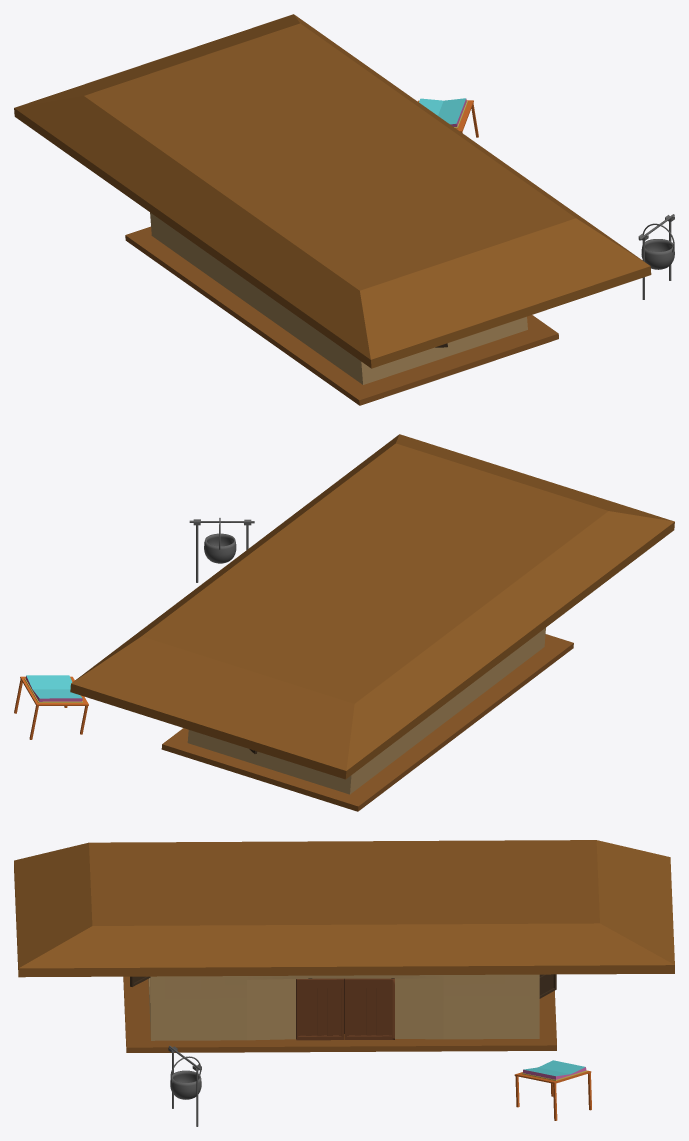
File: IlhaFeiticeiroComplementos.fbx
3 views of the same model, one above another, from view 1: azimuth 30°, elevation 25°; view 2: azimuth 150°, elevation 25°; view 3: azimuth 270°, elevation 25° (orthographic). The views are drawn at different scales.
Parts seen in each view (by area): view 1: Cube.004, Sphere, Cube.001; view 2: Cube.004, Sphere, Cube.001, Cube; view 3: Cube.004, Sphere, Cube.001, Cube.
Part boxes in pixels (<box>): Cube.004: <box>14,14,651,405</box>; Sphere: <box>638,214,674,299</box>; Cube.001: <box>419,98,467,128</box>; Cube.004: <box>70,434,674,811</box>; Sphere: <box>189,518,254,582</box>; Cube.001: <box>24,675,83,702</box>; Cube: <box>14,676,88,739</box>; Cube.004: <box>14,840,674,1052</box>; Sphere: <box>168,1045,201,1126</box>; Cube.001: <box>522,1060,587,1080</box>; Cube: <box>514,1070,591,1120</box>.
Size of the model in its own units: 3308 by 1163 by 4883.
